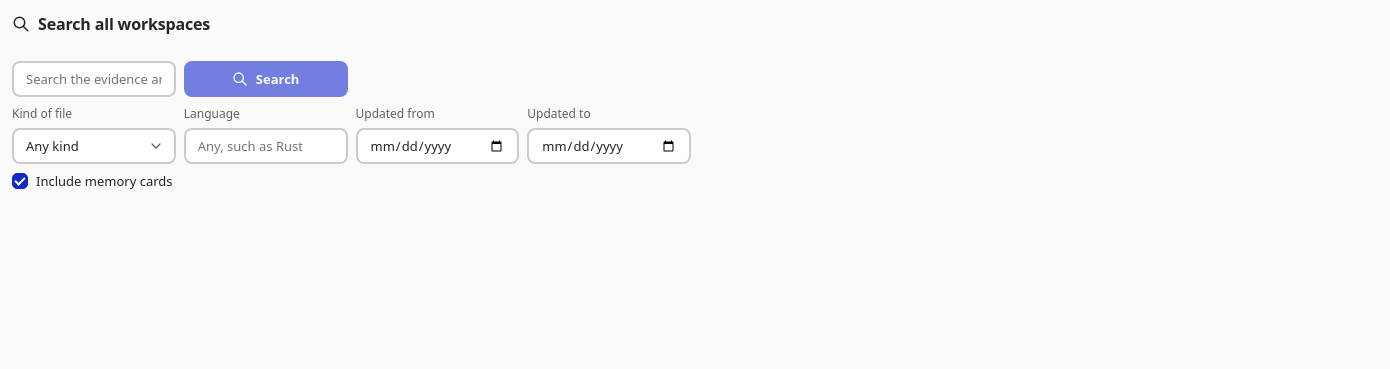
Test: CrossWorkspaceSearch › searches files and memory cards with no filter by default, and says what it found
Replace the text in the field named "Search every workspace you can read" with "session". click: (94, 79)
box: [12,61,176,97]
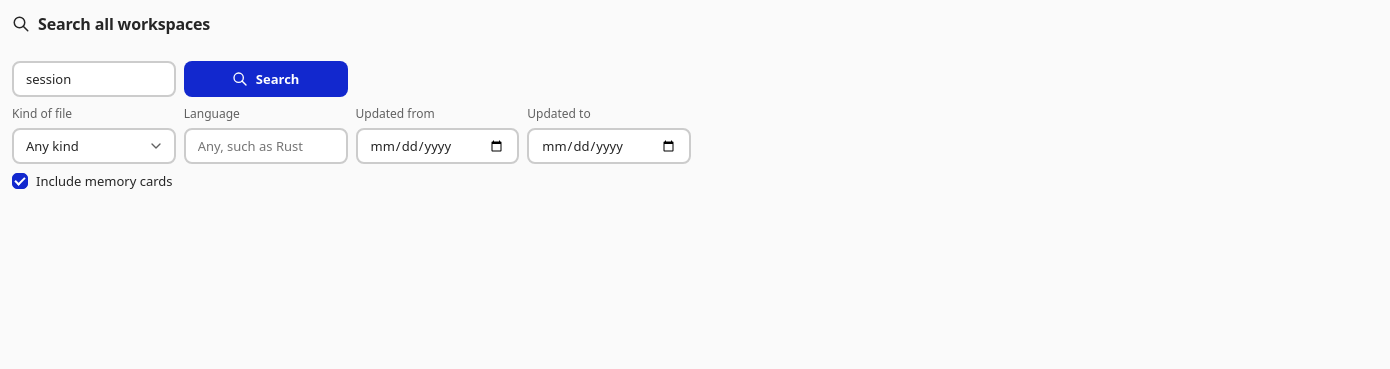
Click the button "Search". click: (266, 79)
box: [184,61,348,97]
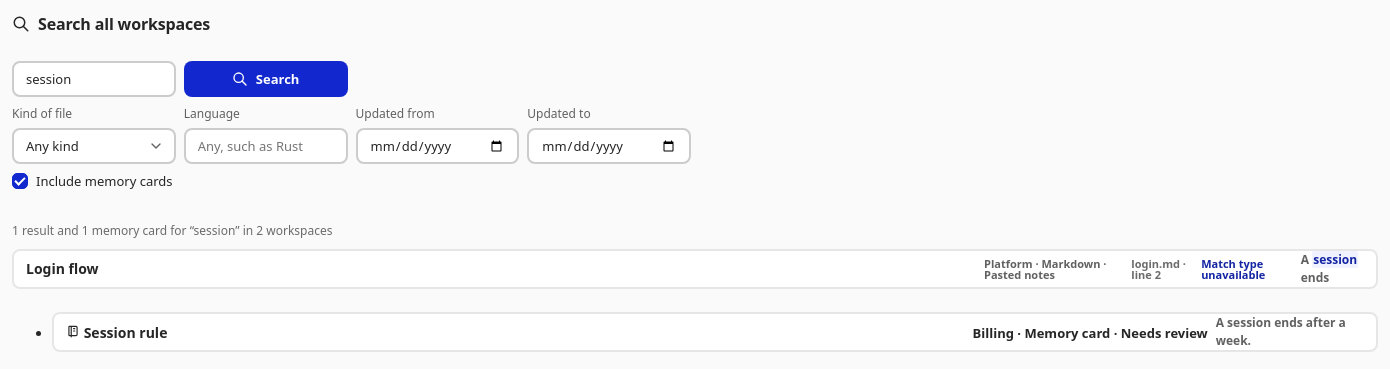
Now the text "Login flow" is shown, box [26,262,99,276]
Now the text "1 result and 1 memory card for “session” in 2 workspaces" is shown, box [12,222,332,239]
Now the text "Session rule" is shown, box [66,324,167,340]
